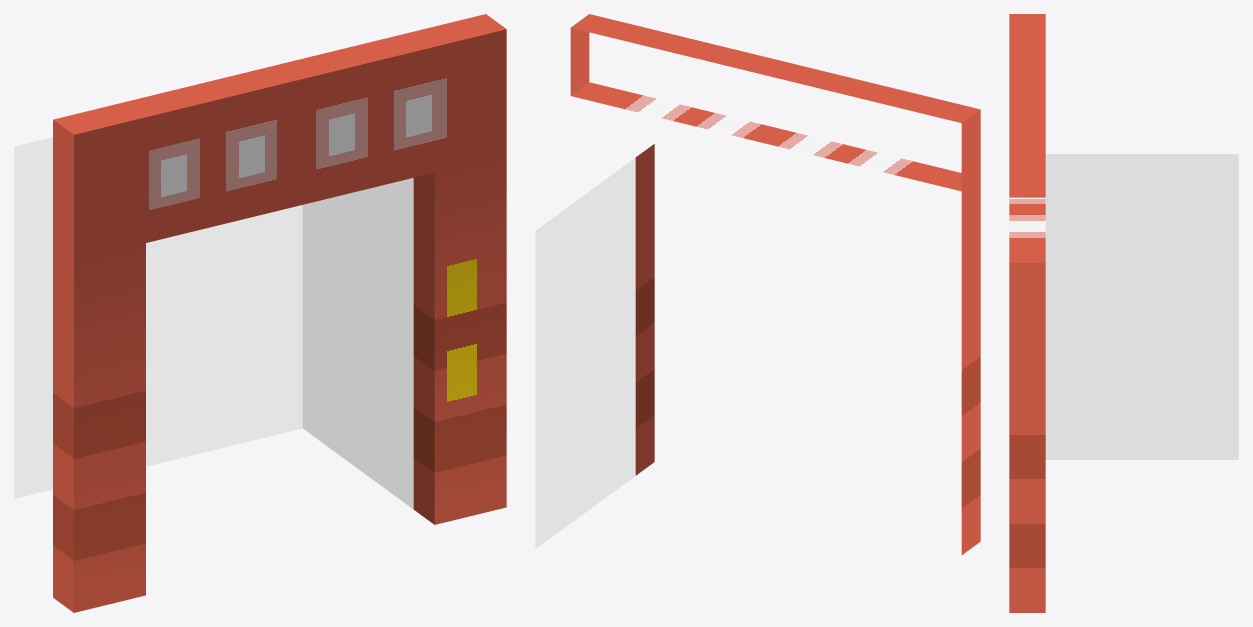
3 renders of one model, left to right at view 1: azimuth 30°, elevation 25°; view 2: azimuth 150°, elevation 25°; view 3: azimuth 270°, elevation 25°, orthographic. The views are drawn at different scales.
Bounding box in the file's own units: 2.25 × 2.38 × 1.19.
2 materials, 1 textured.
